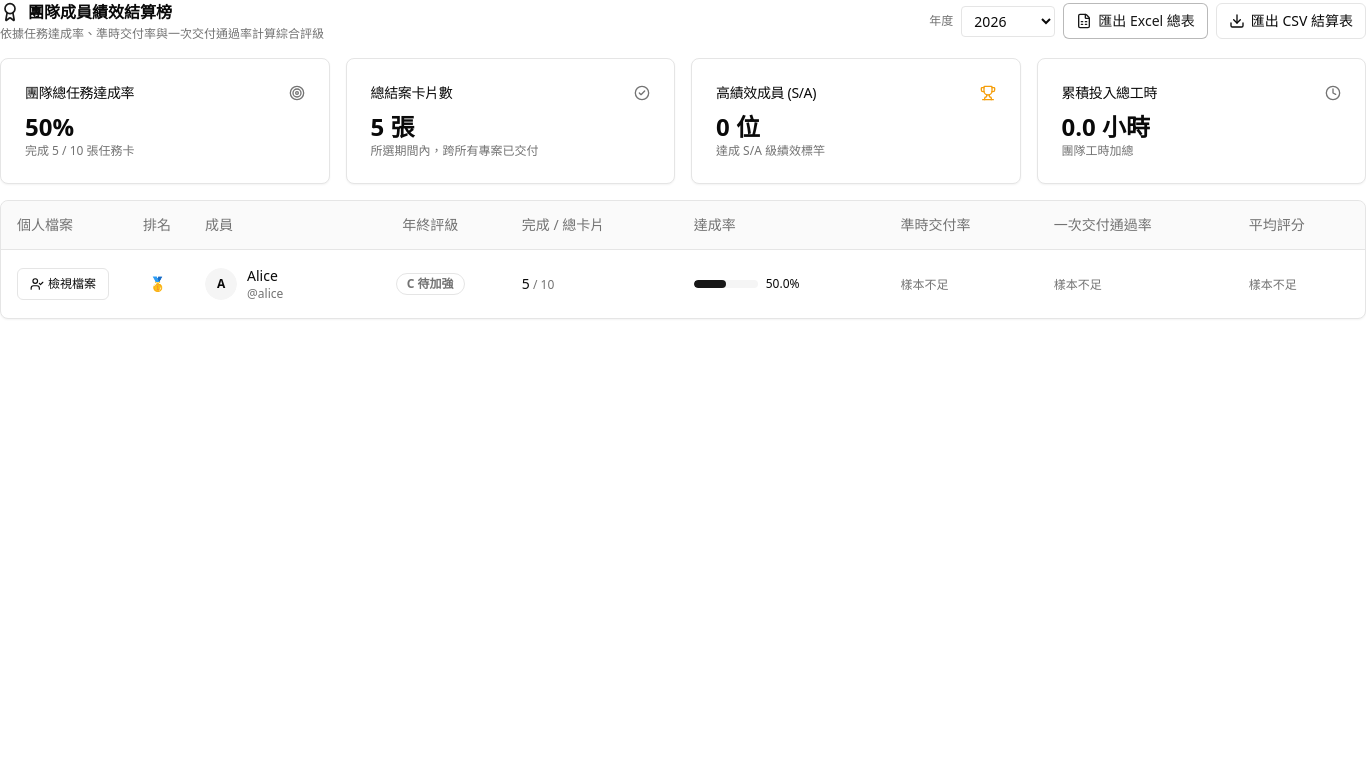
Test case: TeamReportTab dossier › dossier 顯示 grade 分解與調整方向，並依 components 的陣列順序渲染
Click the button "檢視檔案".
click(63, 284)  # box [17,268,109,300]
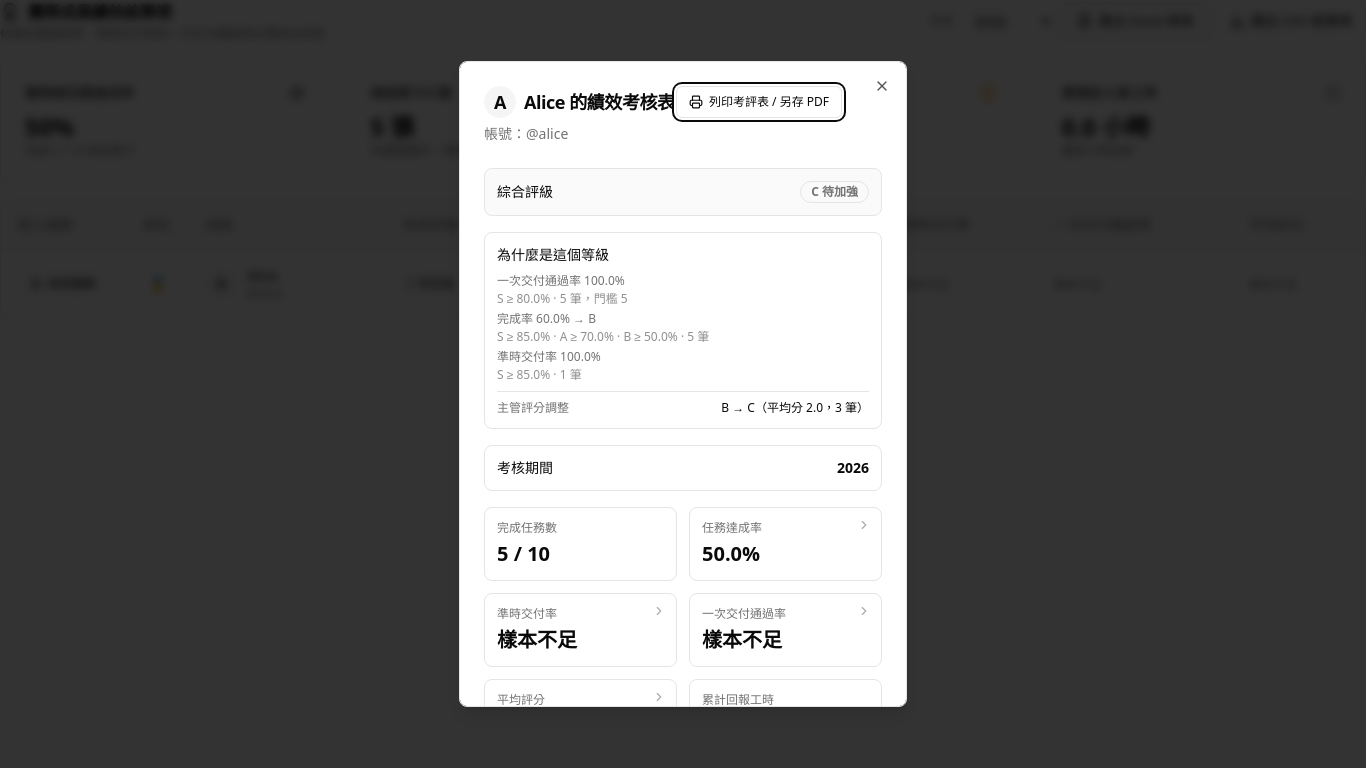
Expected: the text "為什麼是這個等級" is shown, [497,245,609,264]
Expected: the element with test id "rating-explanation" shows "完成率 60.0% → B", [497,310,596,327]
Expected: the element with test id "rating-explanation" shows "B → C（平均分 2.0，3 筆）", [721,399,869,416]
